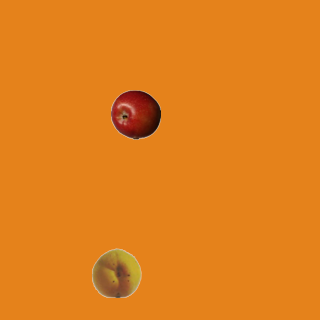Apple Braeburn: (110, 89, 160, 139)
Peach 2: (91, 247, 141, 297)
